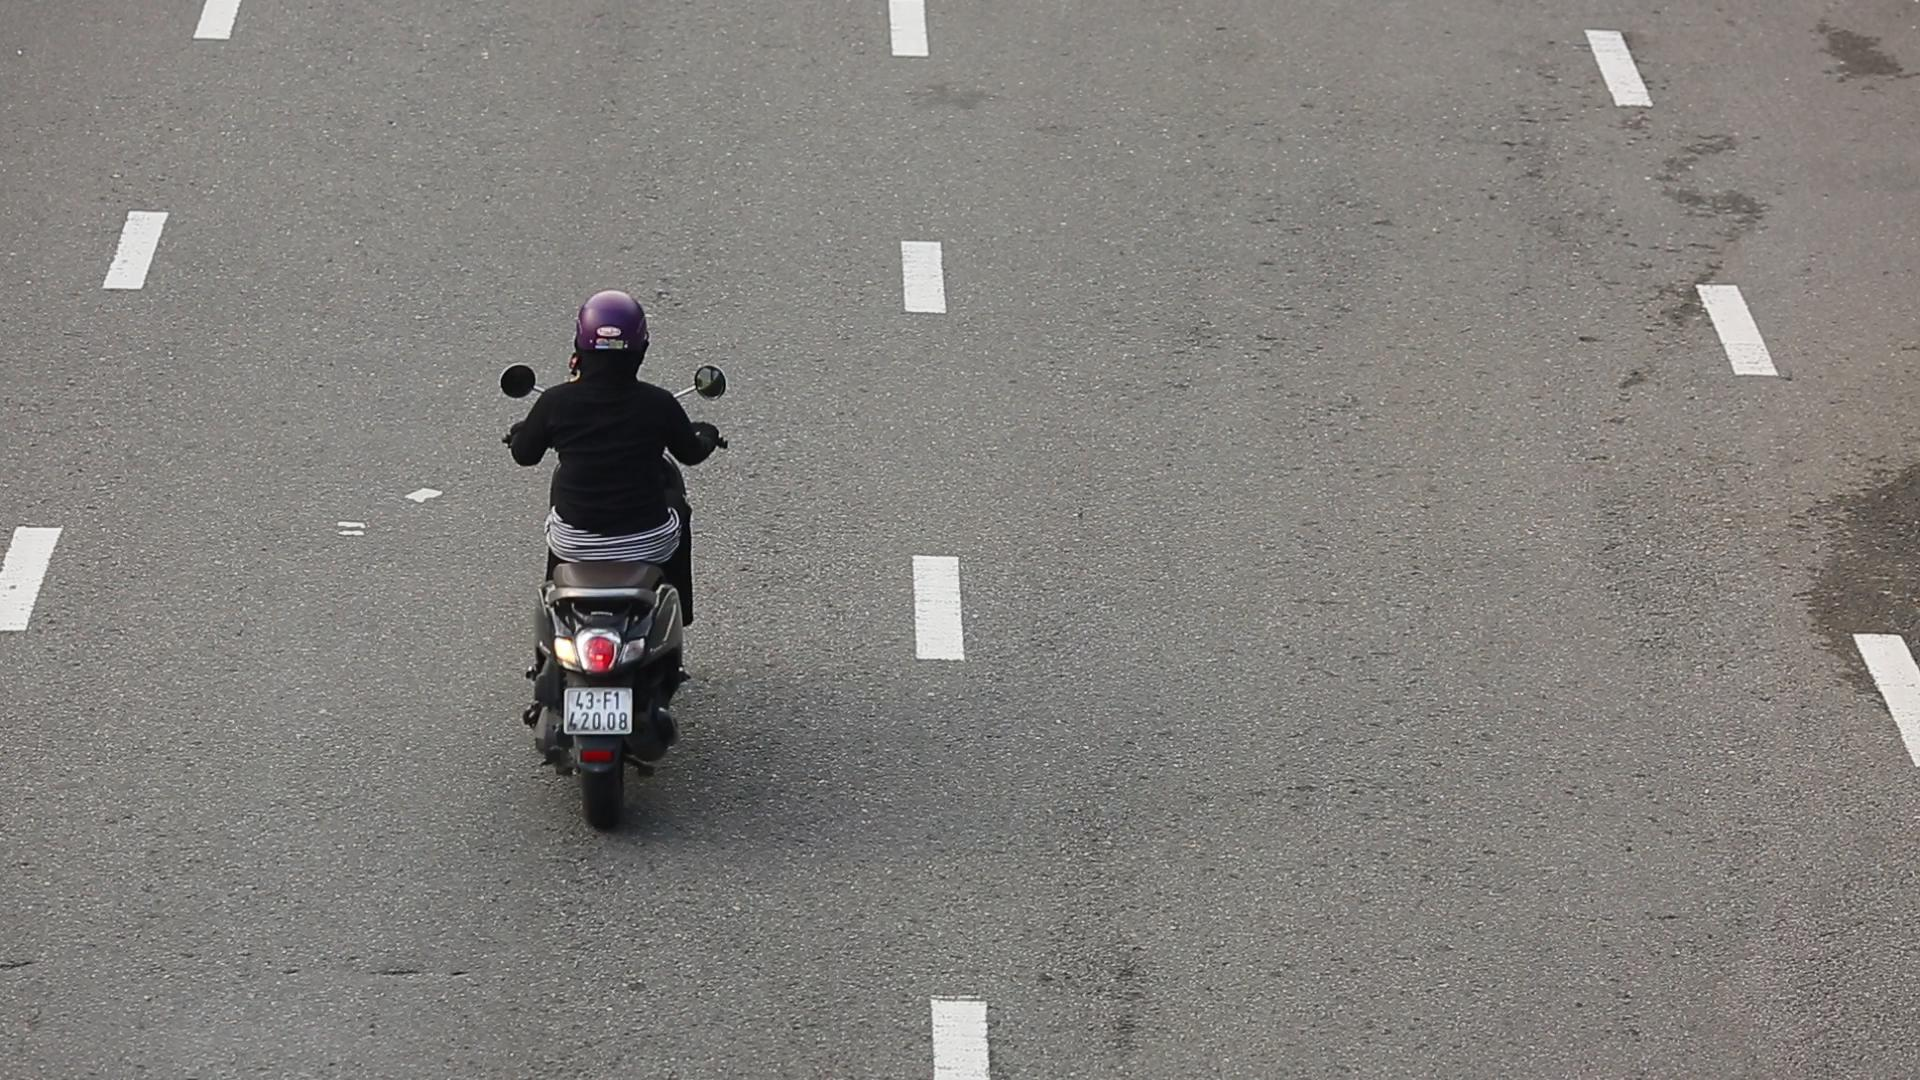motobike: (506, 277, 733, 832)
